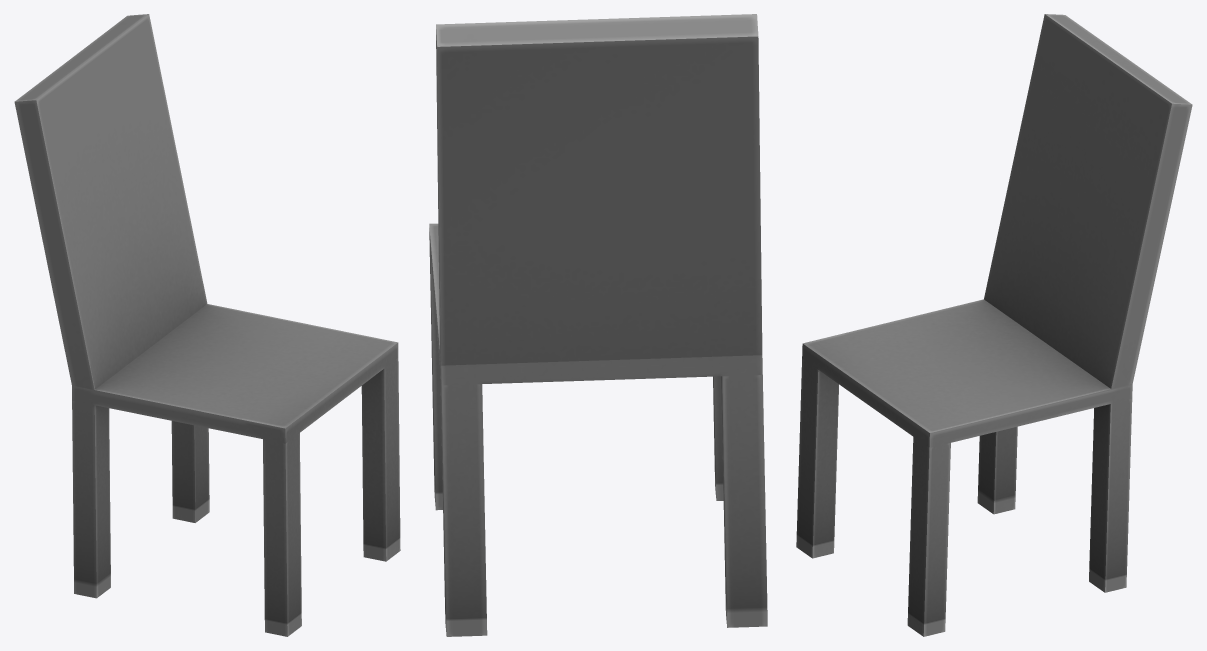
The model's file is bar_mesh.021_lev1.glb.
3 views of the same model, side by side, from view 1: azimuth 30°, elevation 25°; view 2: azimuth 150°, elevation 25°; view 3: azimuth 270°, elevation 25° (orthographic). The views are drawn at different scales.
Visible parts, largest first — view 1: bar_mesh.021_lev1; view 2: bar_mesh.021_lev1; view 3: bar_mesh.021_lev1.
Boxes of the visible parts, x1=… form: bar_mesh.021_lev1: x1=14, y1=14, x2=400, y2=636; bar_mesh.021_lev1: x1=429, y1=14, x2=767, y2=636; bar_mesh.021_lev1: x1=796, y1=14, x2=1192, y2=636.
Bounding box in the file's own units: 1.98 × 2.9 × 2.17.
1 material, 1 textured.
